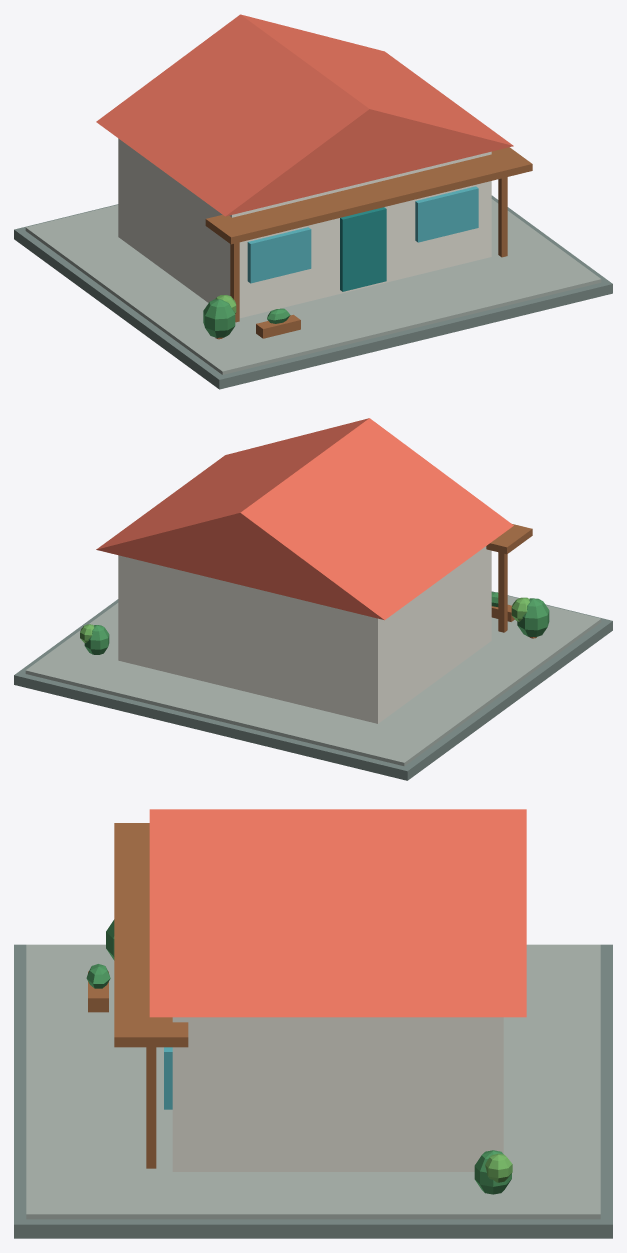
The model's file is house_lv1.glb.
3 renders of one model, top to bottom at view 1: azimuth 30°, elevation 25°; view 2: azimuth 150°, elevation 25°; view 3: azimuth 270°, elevation 25°, orthographic. The views are drawn at different scales.
Parts seen in each view (by area): view 1: coral, concrete, ivory, wood, pavement, glass, teal, green; view 2: coral, ivory, concrete, pavement, wood, green, foliage; view 3: coral, concrete, ivory, pavement, wood, green, foliage.
Boxes of the visible parts, x1=… form: coral: x1=96, y1=14, x2=513, y2=216; concrete: x1=25, y1=199, x2=601, y2=374; ivory: x1=118, y1=138, x2=491, y2=318; wood: x1=205, y1=147, x2=532, y2=339; pavement: x1=14, y1=195, x2=612, y2=389; glass: x1=247, y1=186, x2=478, y2=283; teal: x1=340, y1=207, x2=386, y2=291; green: x1=203, y1=299, x2=290, y2=337; coral: x1=96, y1=418, x2=513, y2=620; ivory: x1=118, y1=546, x2=491, y2=723; concrete: x1=25, y1=596, x2=601, y2=766; pavement: x1=14, y1=591, x2=612, y2=780; wood: x1=486, y1=524, x2=536, y2=638; green: x1=84, y1=592, x2=549, y2=654; foliage: x1=80, y1=597, x2=529, y2=642; coral: x1=149, y1=809, x2=526, y2=1017; concrete: x1=26, y1=944, x2=600, y2=1219; ivory: x1=172, y1=1017, x2=503, y2=1171; pavement: x1=14, y1=944, x2=612, y2=1238; wood: x1=88, y1=823, x2=188, y2=1168; green: x1=86, y1=919, x2=511, y2=1194; foliage: x1=485, y1=1153, x2=512, y2=1182.
Size of the model in its own units: 9.4 by 4.53 by 8.5.
